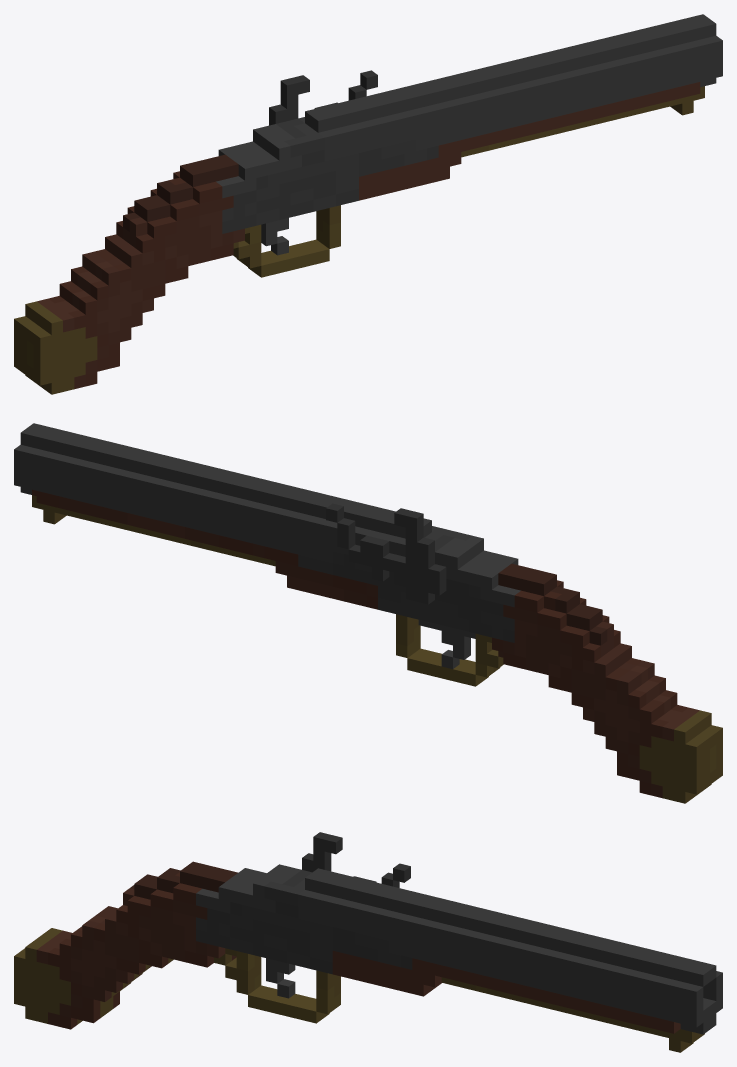
File: flintlockPixel.obj
3 renders of one model, top to bottom at view 1: azimuth 30°, elevation 25°; view 2: azimuth 150°, elevation 25°; view 3: azimuth 330°, elevation 25°, orthographic.
Parts seen in each view (by area): view 1: Untitled; view 2: Untitled; view 3: Untitled.
Part boxes in pixels (x1,y1,x2,y2): Untitled: (14,14,722,394); Untitled: (14,423,722,803); Untitled: (14,832,722,1052).
Bounding box in the file's own units: 6 × 1.9 × 0.5.
1 material, 1 textured.
